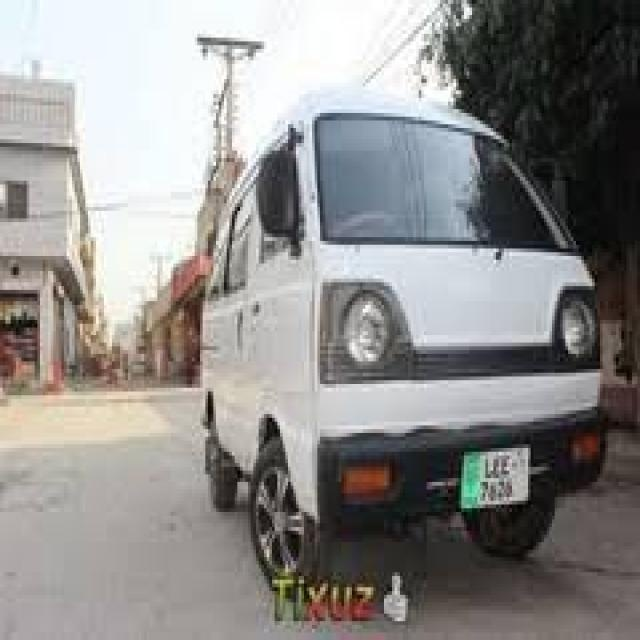Van: (194, 83, 610, 595)
